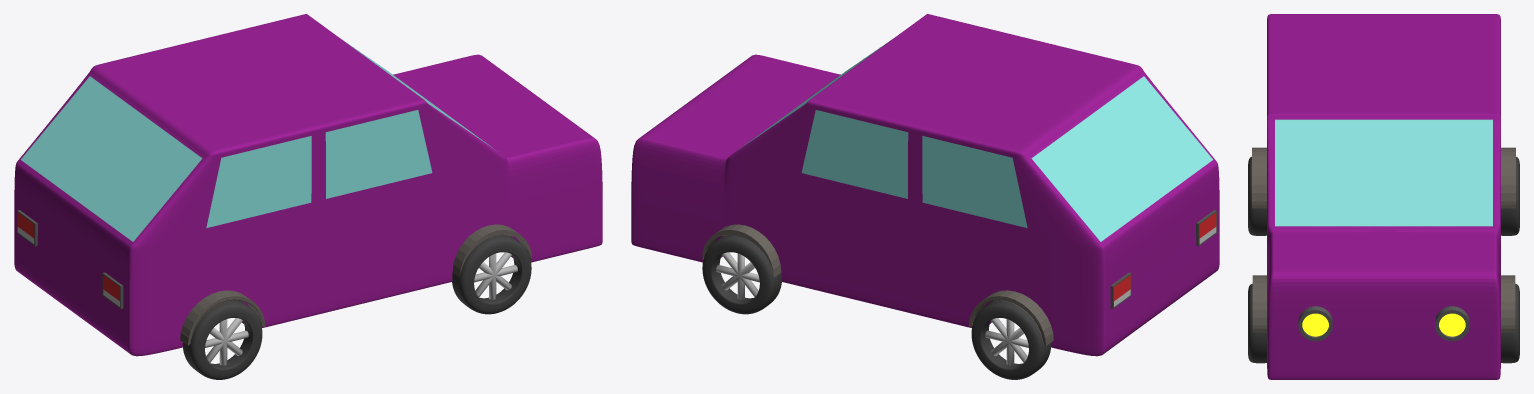
File: Car3.fbx
3 renders of one model, left to right at view 1: azimuth 30°, elevation 25°; view 2: azimuth 150°, elevation 25°; view 3: azimuth 270°, elevation 25°, orthographic. The views are drawn at different scales.
Parts seen in each view (by area): view 1: Cube.001, Cylinder.002, Cylinder.001, Cube.002; view 2: Cube.001, Cylinder.002, Cylinder.001, Cube.002; view 3: Cube.001, Cylinder, Cylinder.002, Cylinder.001.
Part boxes in pixels (x1,y1,x2,y2): Cube.001: (14,14,602,356); Cylinder.002: (452,234,531,314); Cylinder.001: (182,300,262,379); Cube.002: (17,210,123,308); Cube.001: (631,14,1219,356); Cylinder.002: (702,234,781,314); Cylinder.001: (971,300,1051,379); Cube.002: (1110,210,1216,308); Cube.001: (1252,14,1515,379); Cylinder: (1298,306,1469,341); Cylinder.002: (1248,283,1519,363); Cylinder.001: (1248,156,1519,235).
Size of the model in its own units: 1340 by 590 by 673.
